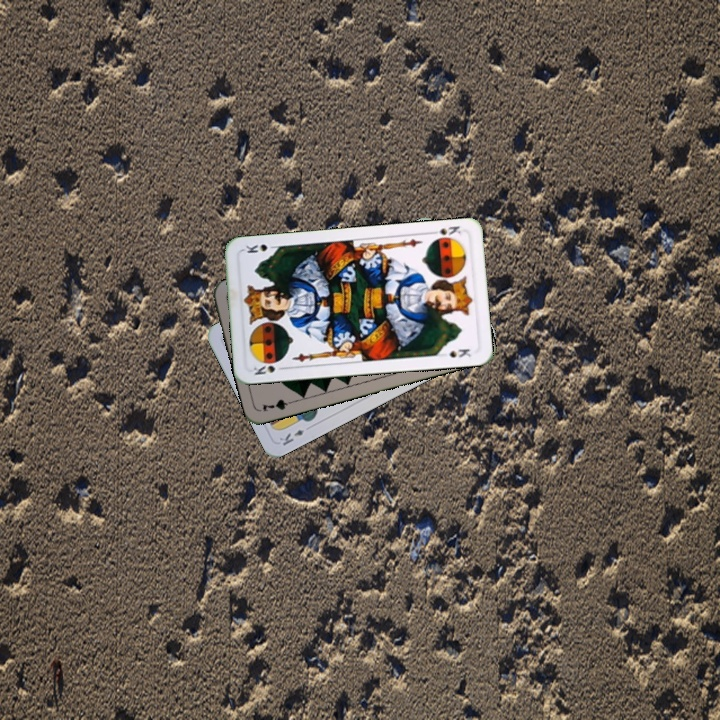EK: (275, 425, 307, 448)
G7: (258, 395, 299, 414)
SK: (249, 361, 289, 377), (426, 222, 463, 238)
